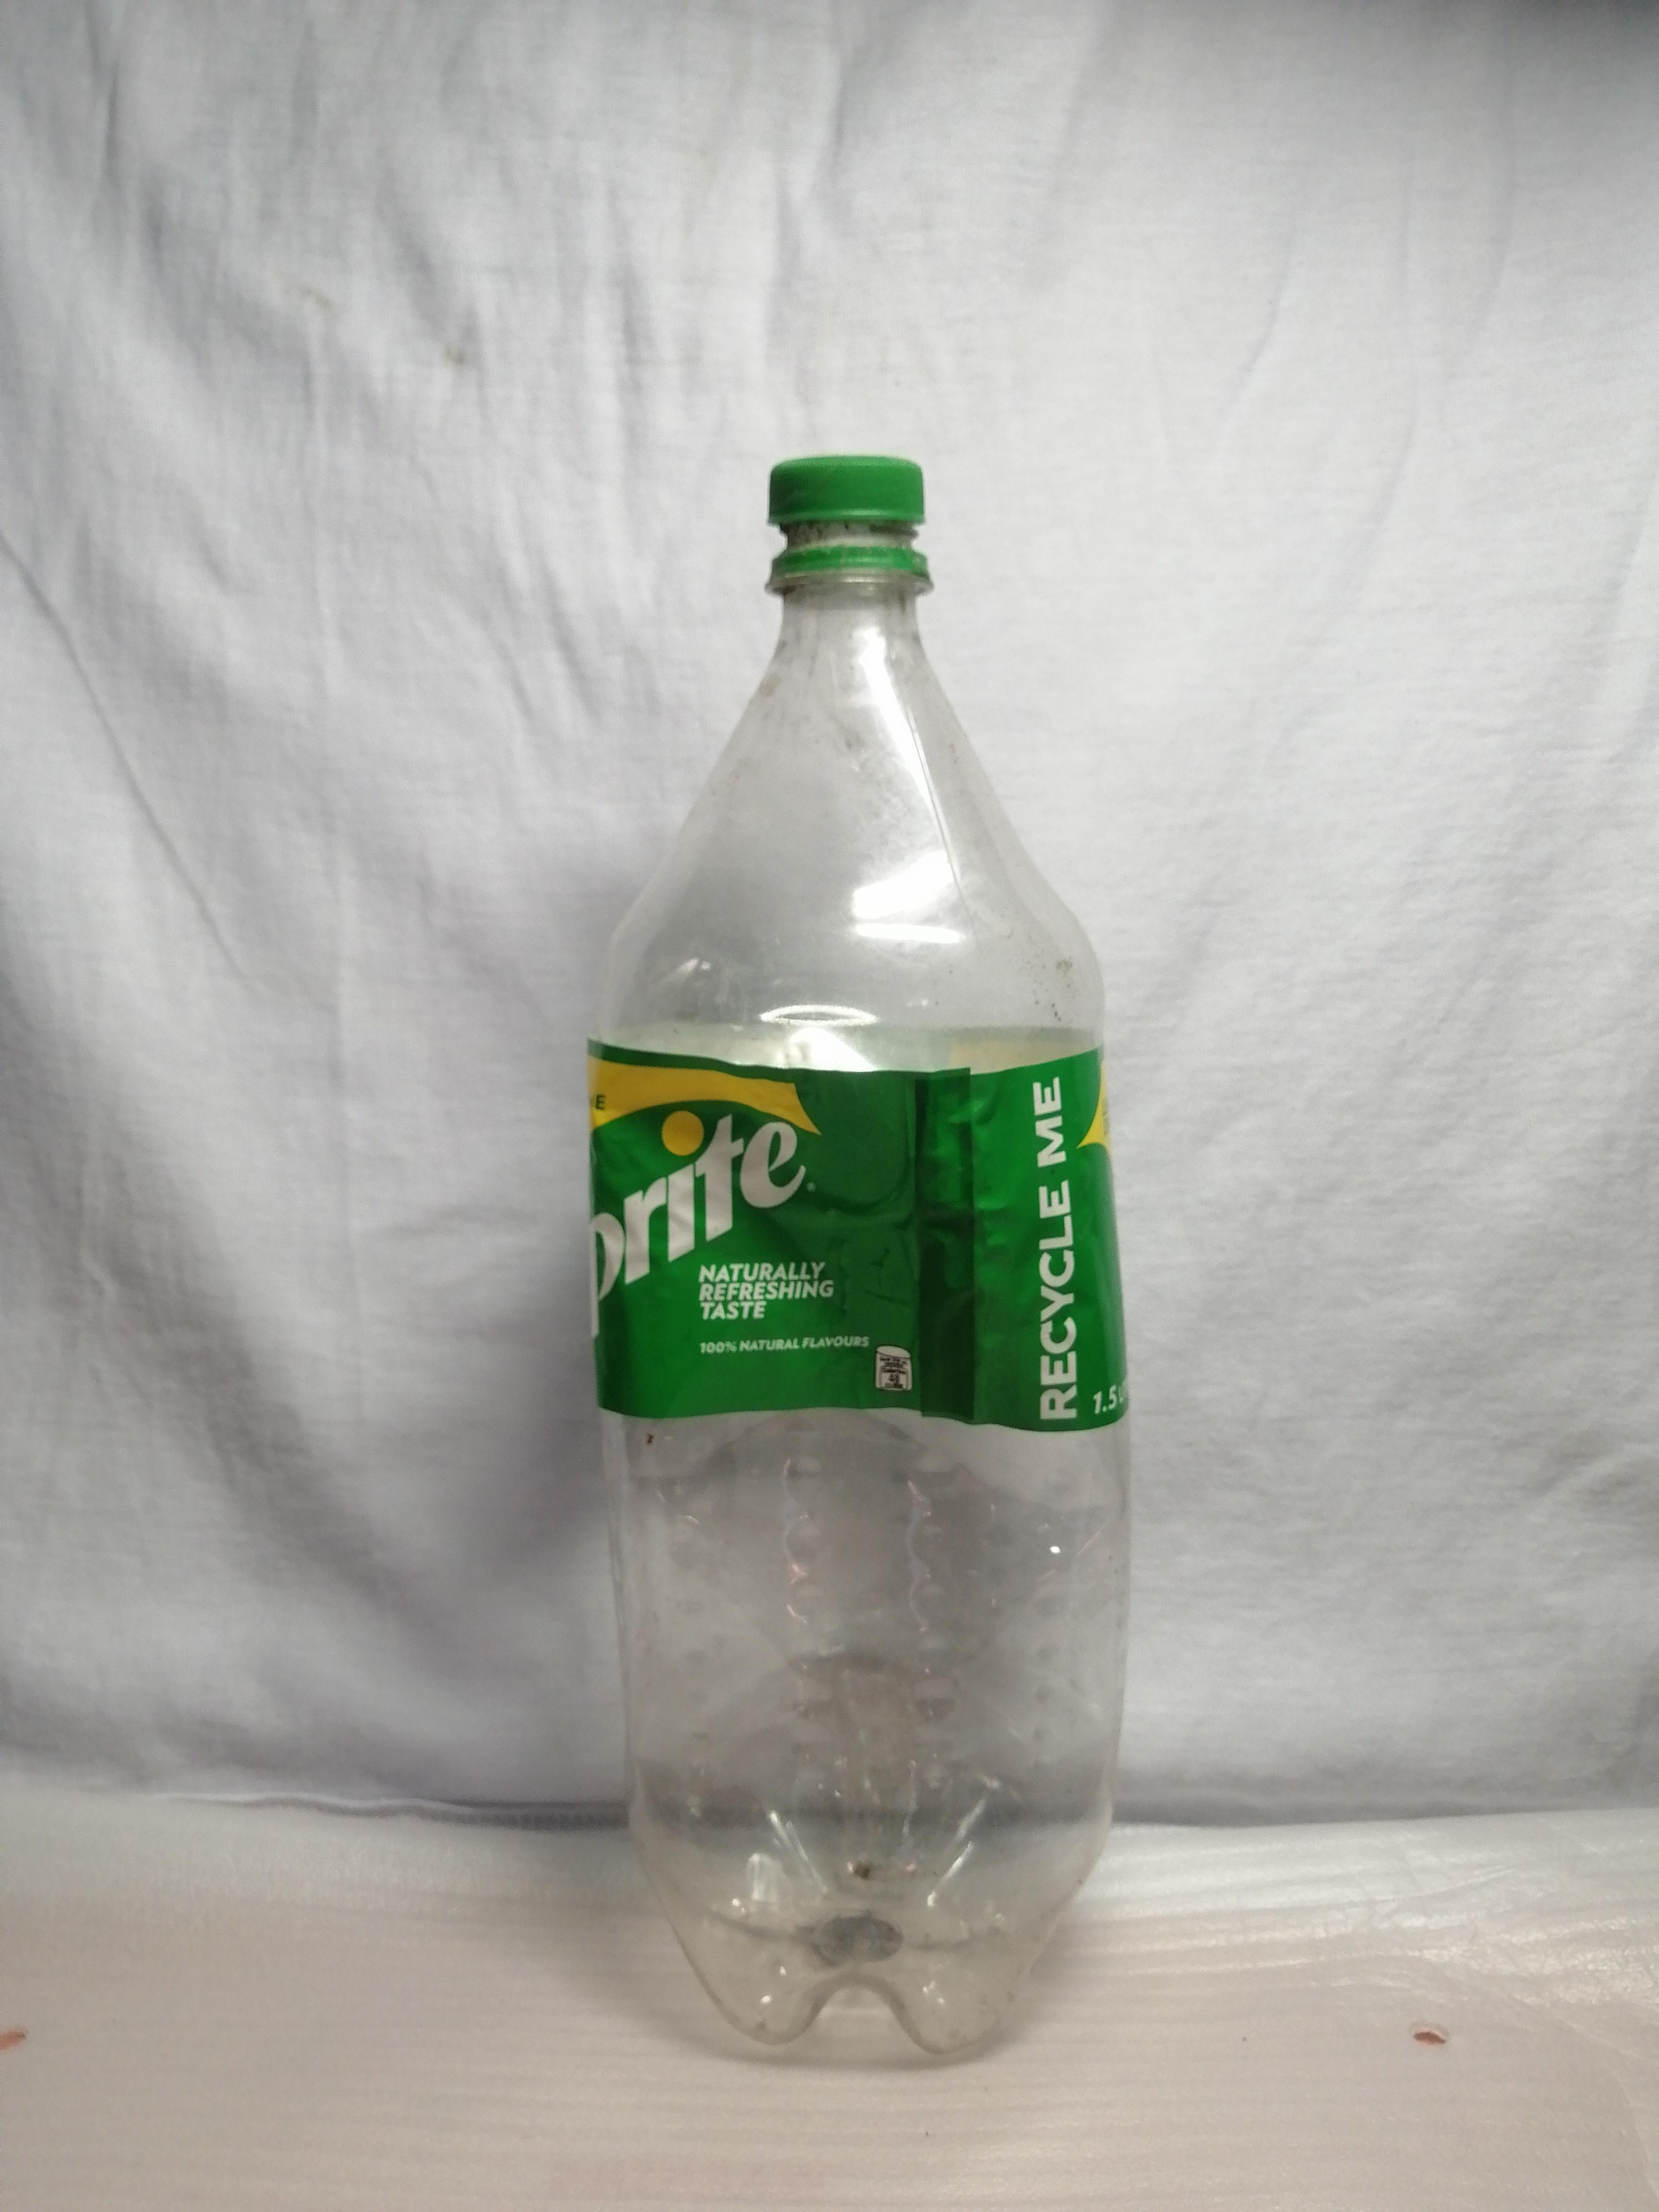plastic-bottle: (533, 374, 1142, 2093)
